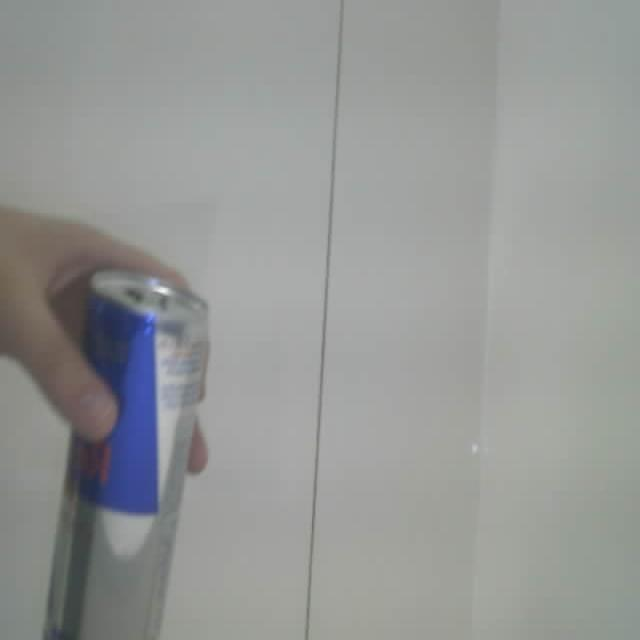redbull can: (44, 271, 207, 639)
